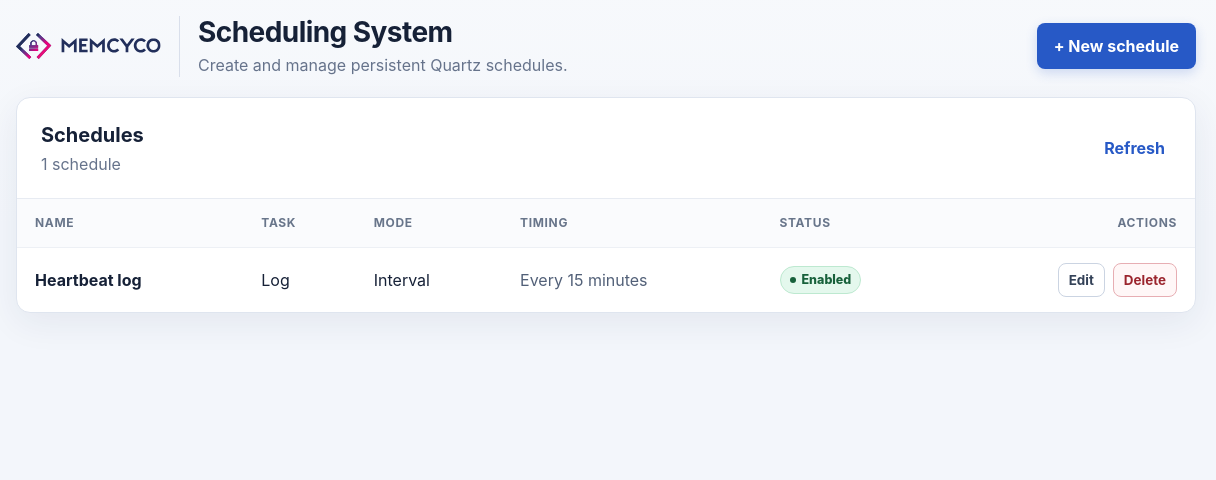
Test: scheduling dashboard › confirms and deletes a schedule
Expected: the text "Heartbeat log" is shown, [35,270,142,290]
Click the button "Delete" at [1145, 280], box [1113,263,1177,297]
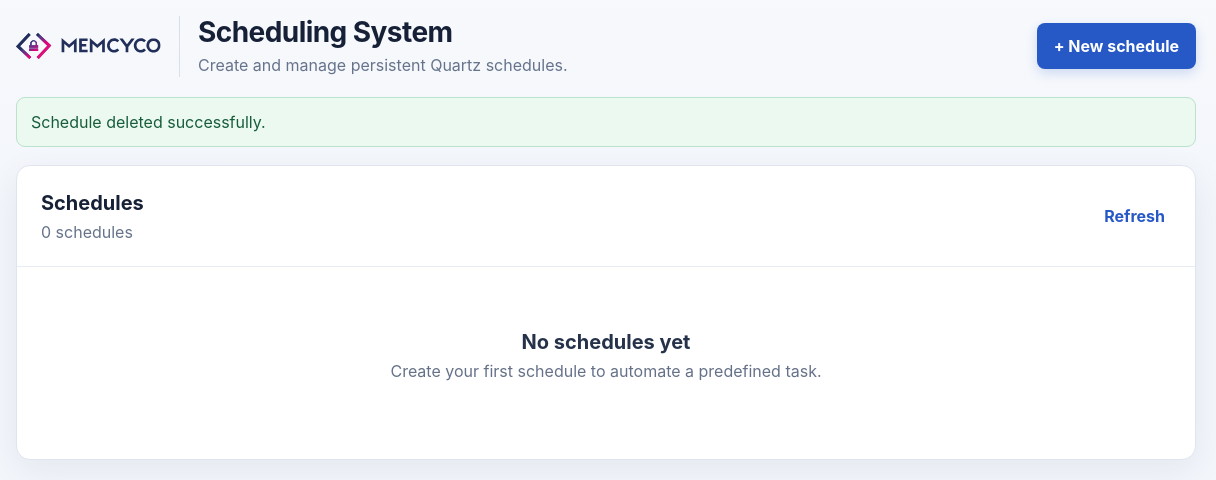
Expected: the heading "No schedules yet" is shown, [522,330,690,354]
Expected: the message reads "Schedule deleted successfully.", [31,112,266,132]
